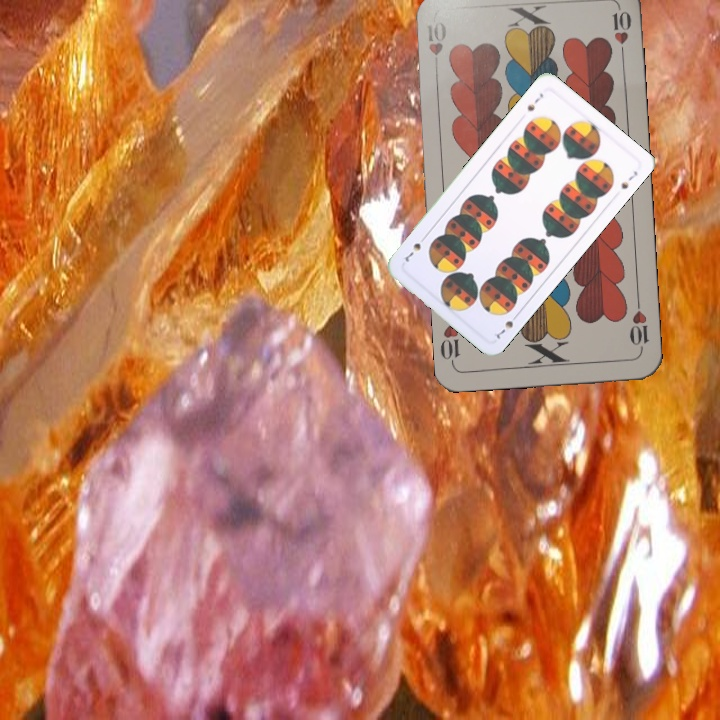H10: (625, 296, 652, 355), (423, 18, 449, 76)
S7: (492, 309, 522, 341), (523, 89, 546, 114)
